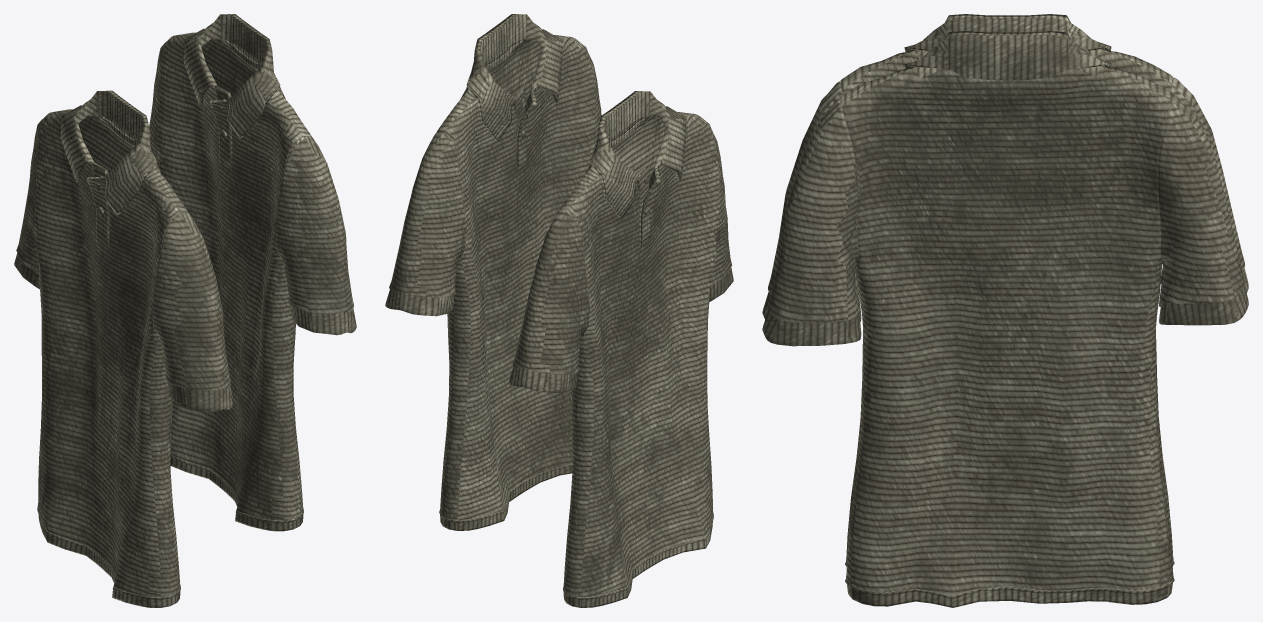
File: yifu10_txu_02.fbx
3 renders of one model, left to right at view 1: azimuth 30°, elevation 25°; view 2: azimuth 150°, elevation 25°; view 3: azimuth 270°, elevation 25°, orthographic. The views are drawn at different scales.
Parts seen in each view (by area): view 1: yifu10_txu_02; view 2: yifu10_txu_02; view 3: yifu10_txu_02.
Part boxes in pixels (<box>): yifu10_txu_02: <box>14,14,356,607</box>; yifu10_txu_02: <box>385,14,733,607</box>; yifu10_txu_02: <box>762,14,1248,607</box>.
Size of the model in its own units: 36.54 by 89.68 by 61.81.
